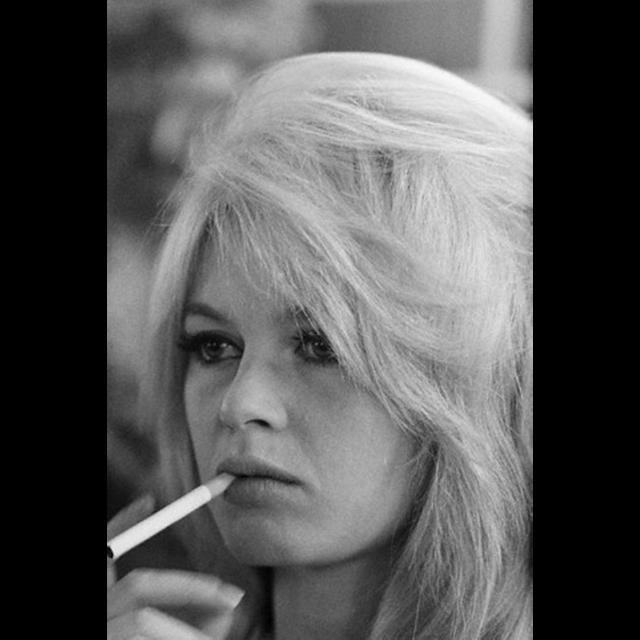rokok: (108, 466, 236, 566)
